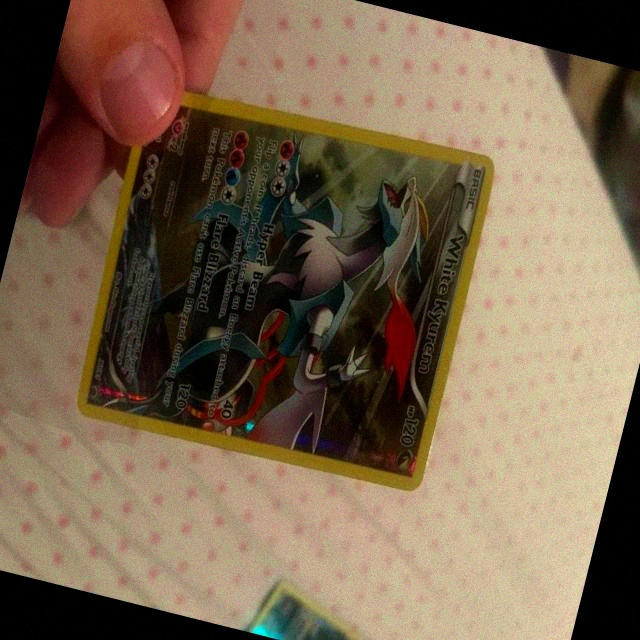card: (74, 87, 498, 495)
